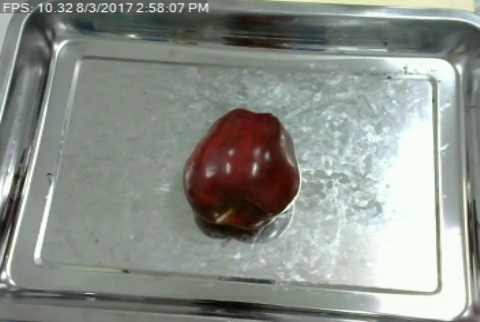Apple: (180, 107, 303, 234)
